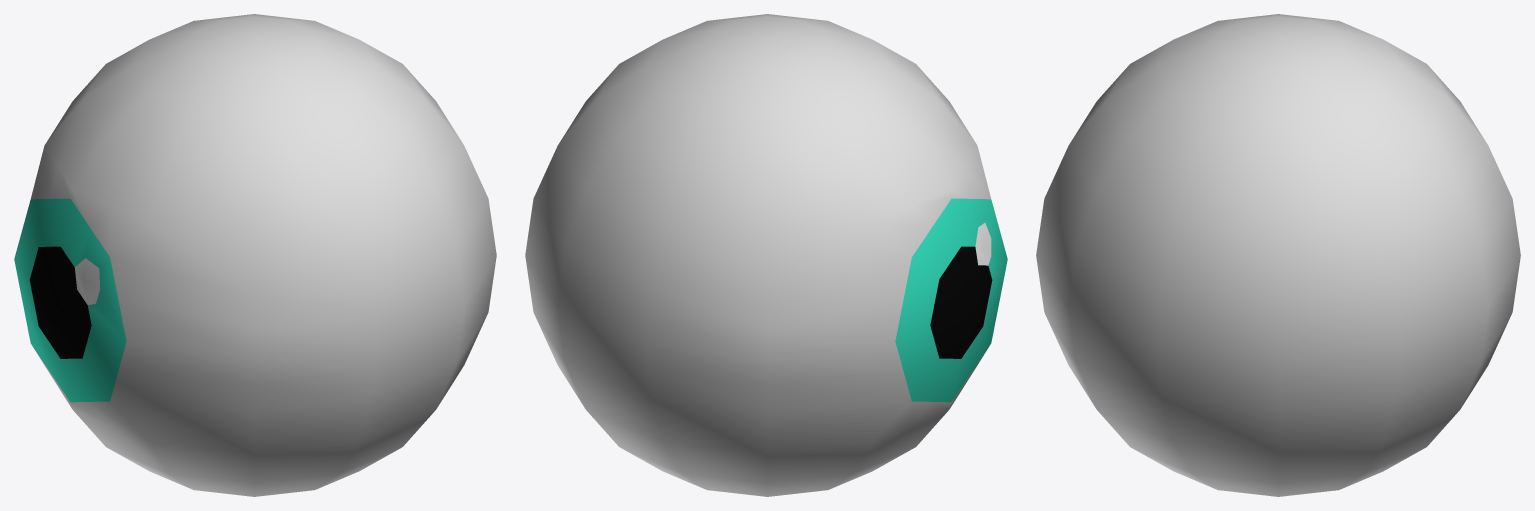
Rendered from EyeBoss.fbx.
The picture shows the model from 3 angles, left to right: view 1: azimuth 30°, elevation 25°; view 2: azimuth 150°, elevation 25°; view 3: azimuth 270°, elevation 25°; orthographic projection.
Parts seen in each view (by area): view 1: EyeBoss; view 2: EyeBoss; view 3: EyeBoss.
Part boxes in pixels (x1,y1,x2,y2): EyeBoss: (14, 14, 496, 496); EyeBoss: (525, 14, 1007, 496); EyeBoss: (1036, 14, 1520, 496).
Bounding box in the file's own units: 200 × 200 × 200.
